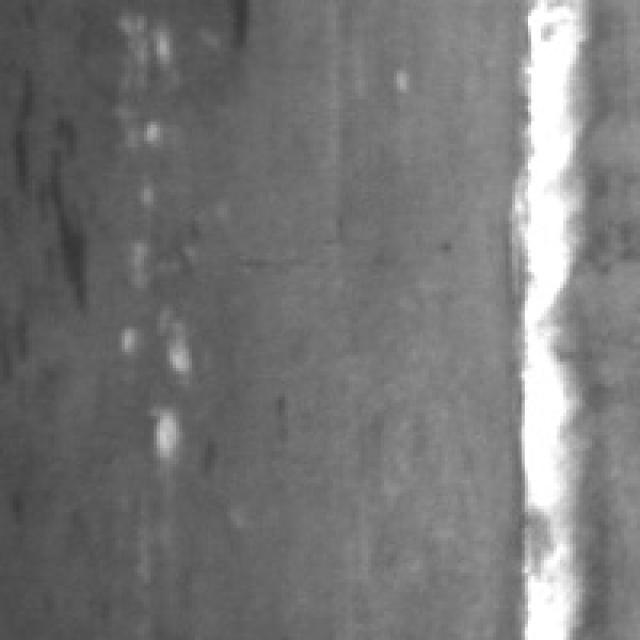inclusion: (6, 48, 100, 346)
scratches: (509, 0, 608, 634), (118, 19, 198, 454)
